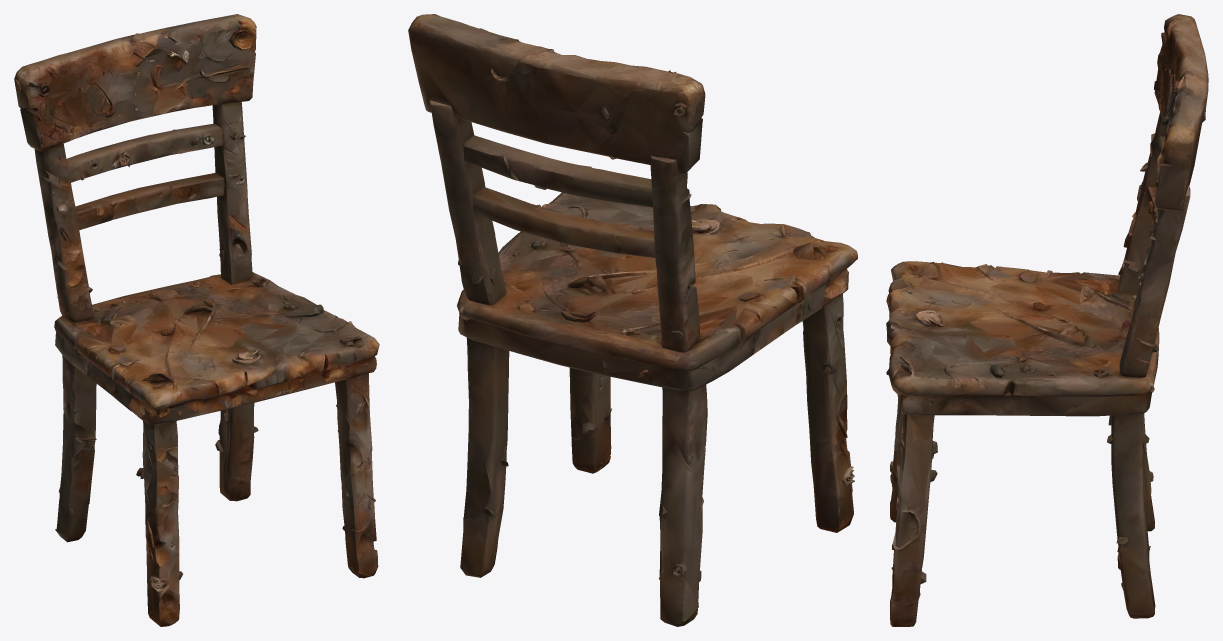
The model's file is chair_idle.glb.
The picture shows the model from 3 angles, left to right: view 1: azimuth 30°, elevation 25°; view 2: azimuth 150°, elevation 25°; view 3: azimuth 270°, elevation 25°; orthographic projection. The views are drawn at different scales.
Parts seen in each view (by area): view 1: tripo_node_5e5b822f-6ecd-4321-a2b0-2c8a6c607649; view 2: tripo_node_5e5b822f-6ecd-4321-a2b0-2c8a6c607649; view 3: tripo_node_5e5b822f-6ecd-4321-a2b0-2c8a6c607649.
Boxes of the visible parts, x1,y1,x2,y2 form: tripo_node_5e5b822f-6ecd-4321-a2b0-2c8a6c607649: (14,14,379,626); tripo_node_5e5b822f-6ecd-4321-a2b0-2c8a6c607649: (408,14,857,626); tripo_node_5e5b822f-6ecd-4321-a2b0-2c8a6c607649: (886,14,1208,626).
Bounding box in the file's own units: 0.4809 × 0.8993 × 0.5253.
1 material, 1 textured.
